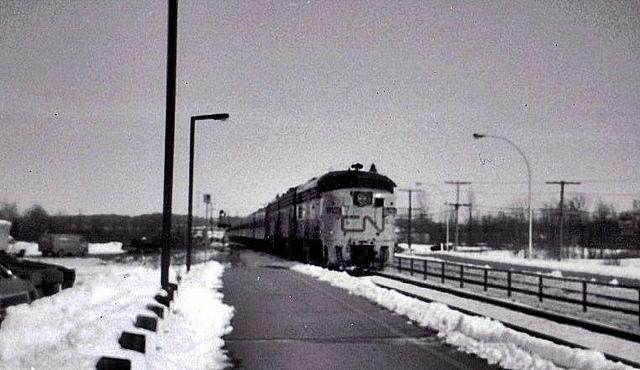car: (0, 261, 38, 328), (121, 238, 162, 254)
truck: (37, 227, 88, 257)
